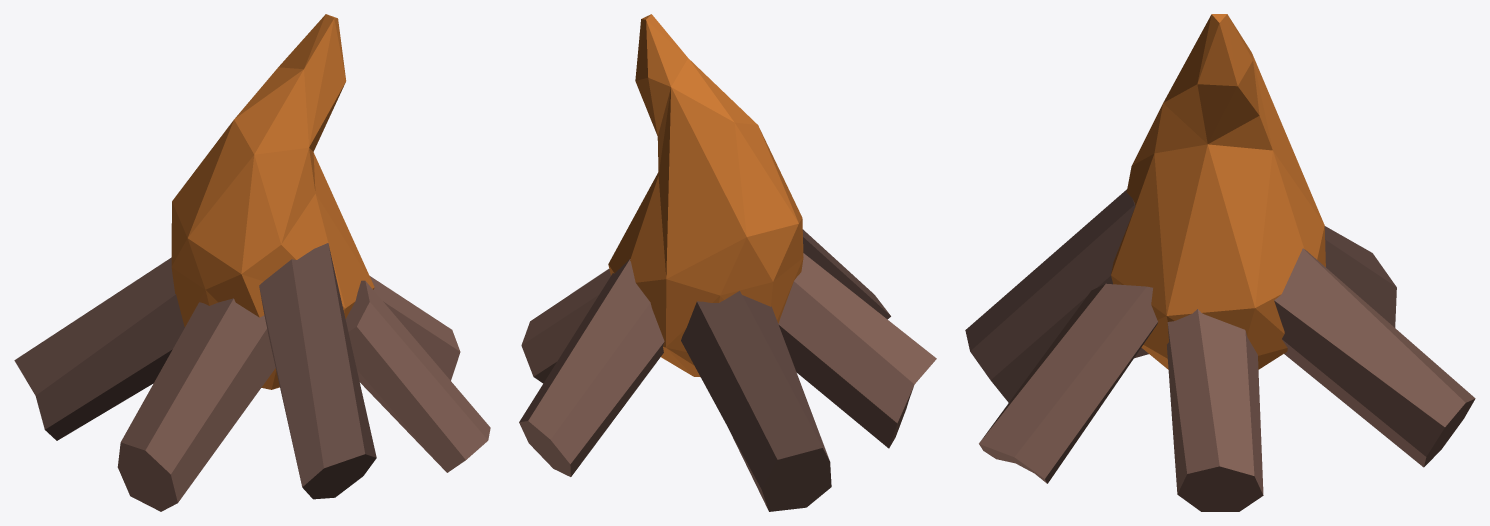
File: Woodfire.glb
3 views of the same model, side by side, from view 1: azimuth 30°, elevation 25°; view 2: azimuth 150°, elevation 25°; view 3: azimuth 270°, elevation 25° (orthographic). The views are drawn at different scales.
Parts seen in each view (by area): view 1: WoodFire; view 2: WoodFire; view 3: WoodFire.
Part boxes in pixels (x1,y1,x2,y2): WoodFire: (14, 14, 490, 511); WoodFire: (519, 14, 936, 511); WoodFire: (965, 14, 1475, 511).
Bounding box in the file's own units: 0.7756 × 0.8281 × 0.8266.
